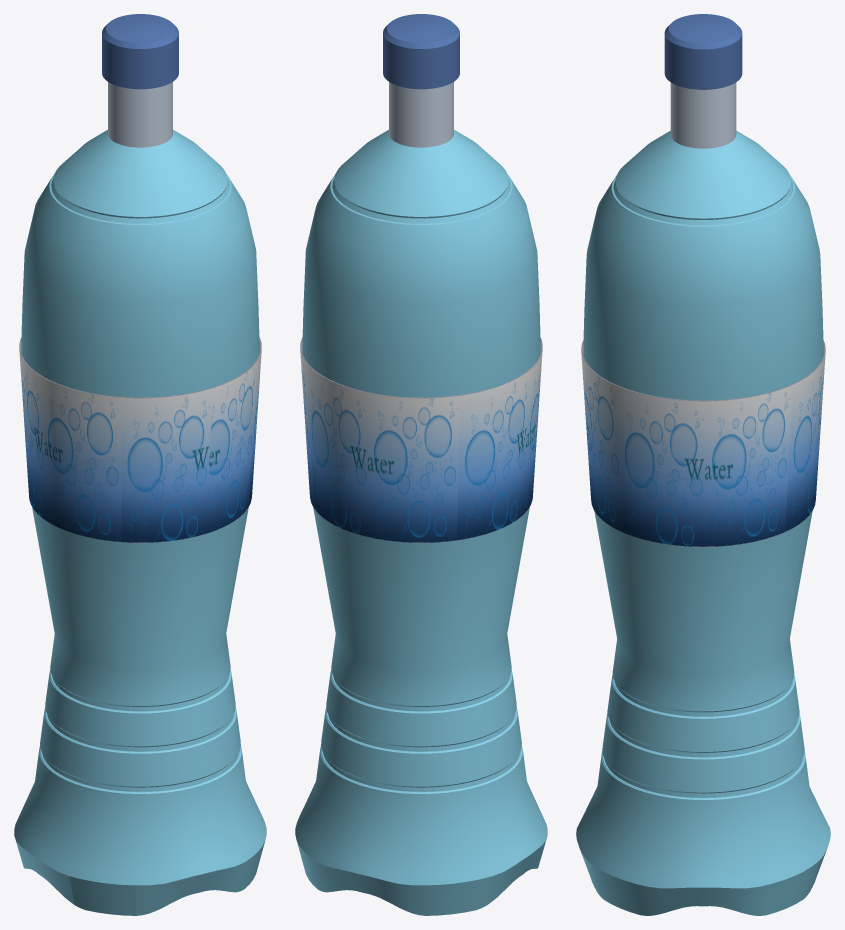
Rendered from madstore_bottle_gold.fbx.
3 views of the same model, side by side, from view 1: azimuth 30°, elevation 25°; view 2: azimuth 150°, elevation 25°; view 3: azimuth 270°, elevation 25° (orthographic).
Parts seen in each view (by area): view 1: Cylinder; view 2: Cylinder; view 3: Cylinder.
Part boxes in pixels (<box>): Cylinder: <box>14,14,266,915</box>; Cylinder: <box>295,14,547,915</box>; Cylinder: <box>576,14,830,915</box>.
Bounding box in the file's own units: 112 × 412 × 112.
Materials: 4 (1 with a texture image).
